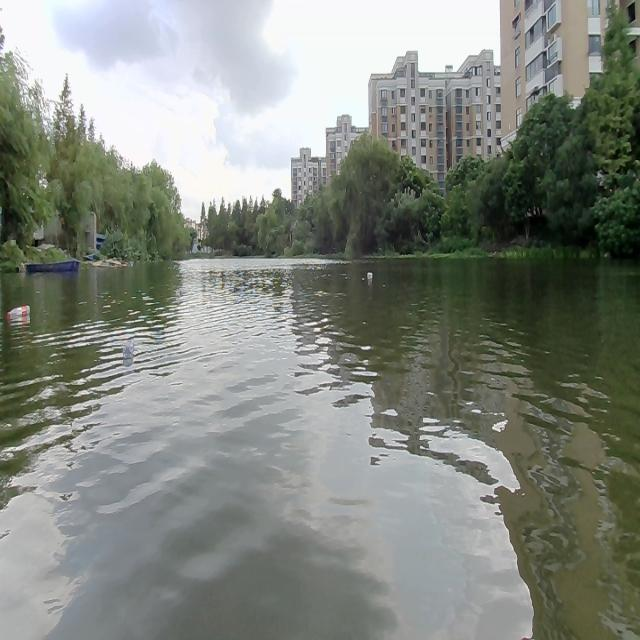bottle: (5, 300, 31, 322), (365, 268, 373, 278)
